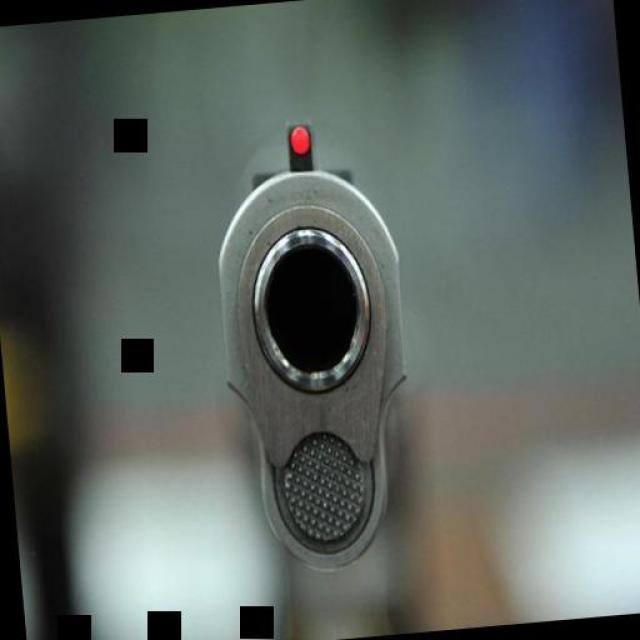gun: (191, 67, 438, 640)
